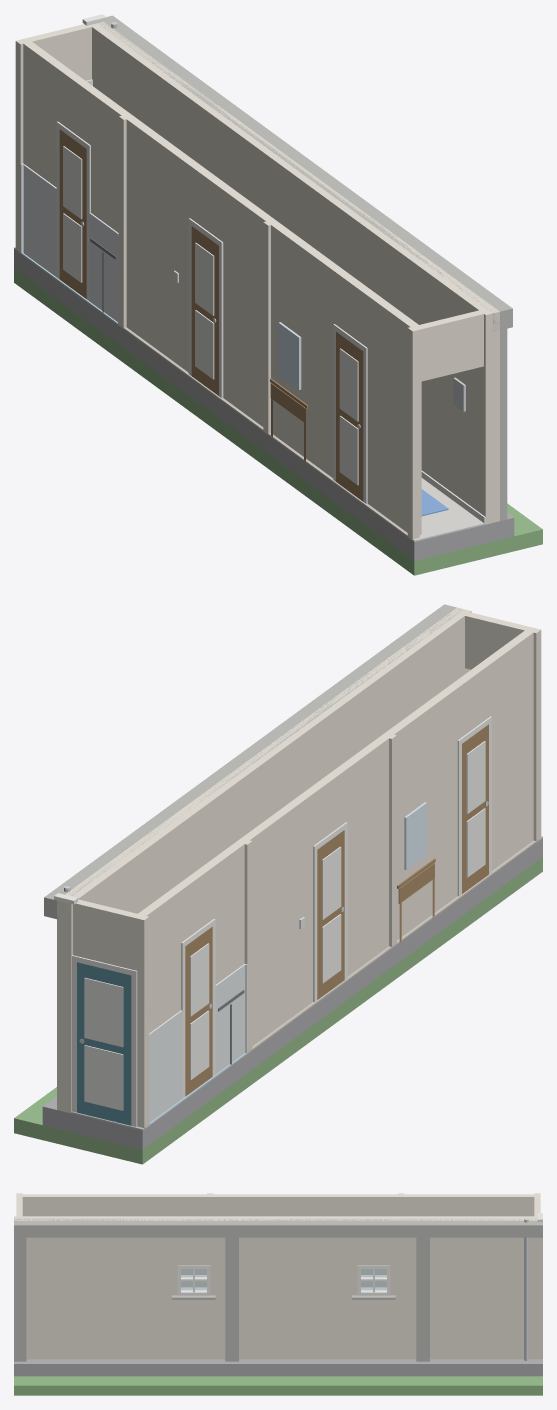
File: tube_corridor.glb
3 views of the same model, one above another, from view 1: azimuth 30°, elevation 25°; view 2: azimuth 150°, elevation 25°; view 3: azimuth 270°, elevation 25° (orthographic). The views are drawn at different scales.
Parts seen in each view (by area): view 1: wall, trim, foundation, concrete, grass, wood, wall_tile, floor_corridor, mirror, floor_carpet; view 2: wall, trim, foundation, grass, wood, concrete, wall_tile, door, floor_carpet, mirror; view 3: wall, concrete, grass, foundation, trim, glass, metal, stone.
Boxes of the visible parts, bbox=[...] form: wall: bbox=[15, 22, 499, 540]; trim: bbox=[56, 14, 485, 524]; foundation: bbox=[14, 249, 514, 560]; concrete: bbox=[99, 15, 512, 520]; grass: bbox=[14, 268, 542, 575]; wood: bbox=[59, 129, 363, 501]; wall_tile: bbox=[20, 163, 118, 325]; floor_corridor: bbox=[421, 478, 479, 534]; mirror: bbox=[278, 322, 301, 389]; floor_carpet: bbox=[121, 327, 409, 538]; wall: bbox=[57, 607, 541, 1127]; trim: bbox=[54, 716, 491, 1126]; foundation: bbox=[42, 838, 542, 1149]; grass: bbox=[14, 857, 542, 1164]; wood: bbox=[185, 724, 488, 1096]; concrete: bbox=[44, 604, 462, 919]; wall_tile: bbox=[149, 964, 247, 1125]; door: bbox=[77, 962, 131, 1125]; floor_carpet: bbox=[250, 839, 538, 1051]; mirror: bbox=[404, 802, 426, 869]; wall: bbox=[14, 1193, 542, 1359]; concrete: bbox=[14, 1218, 542, 1361]; grass: bbox=[14, 1376, 542, 1395]; foundation: bbox=[14, 1359, 542, 1376]; trim: bbox=[177, 1213, 542, 1295]; glass: bbox=[181, 1269, 386, 1289]; metal: bbox=[524, 1218, 528, 1360]; stone: bbox=[172, 1295, 395, 1299].
Bounding box in the file's own units: 1.8 × 3.3 × 9.7.
